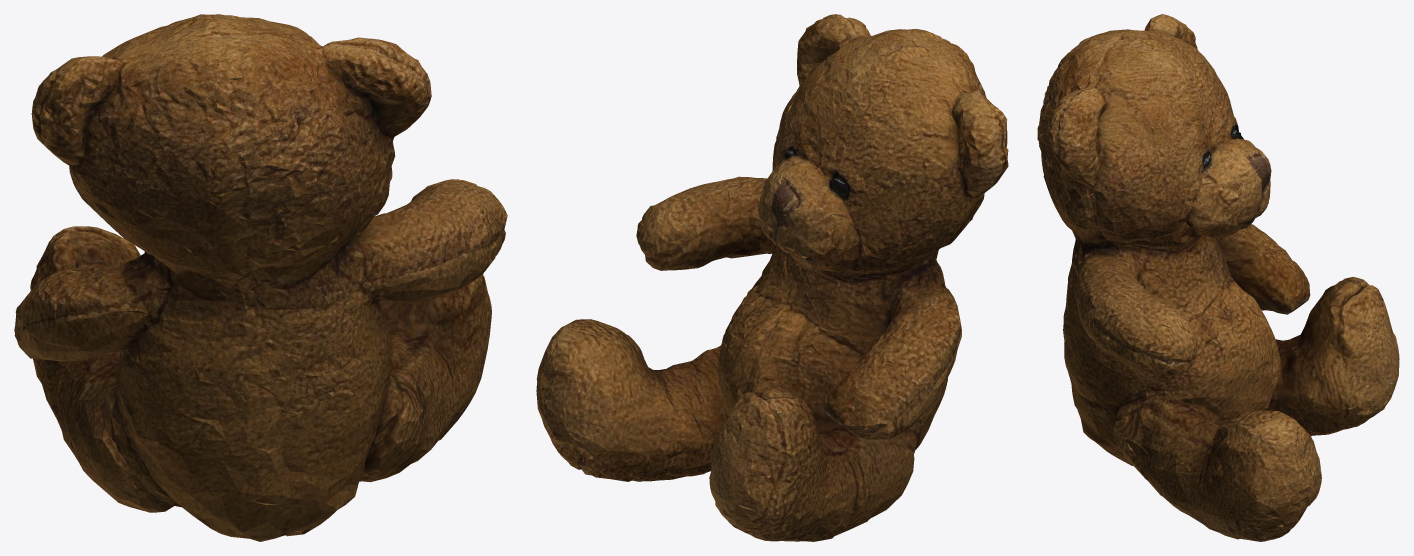
3 views of the same model, side by side, from view 1: azimuth 30°, elevation 25°; view 2: azimuth 150°, elevation 25°; view 3: azimuth 270°, elevation 25° (orthographic). The views are drawn at different scales.
Bounding box in the file's own units: 4.07 × 4.09 × 3.35.
Materials: 1 (1 with a texture image).
